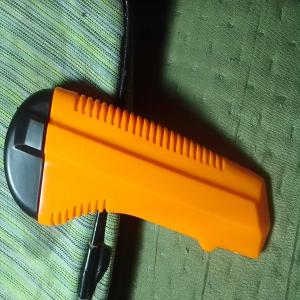estilete: (3, 84, 272, 260)
